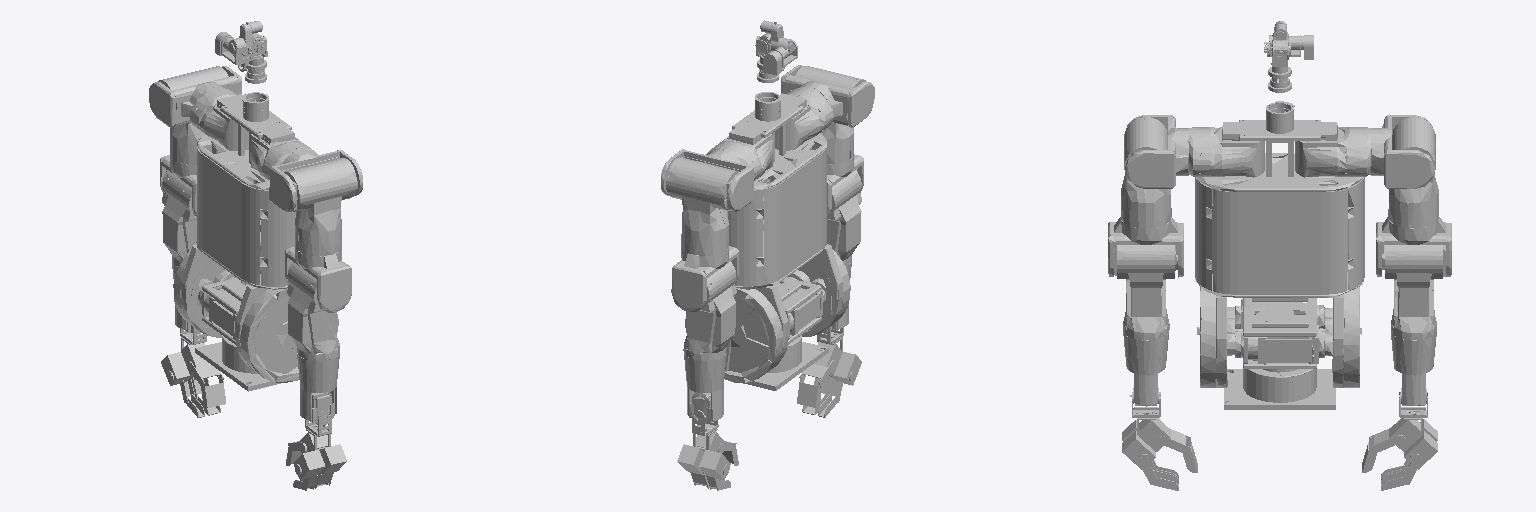
--- Facts derived from the render (not from the file) ---
Views: 3 orthographic renders of the robot side by side, from view 1: azimuth 30°, elevation 25°; view 2: azimuth 150°, elevation 25°; view 3: azimuth 270°, elevation 25°.
Robot: mybot — 63 links, 62 joints (34 revolute, 3 continuous, 6 prismatic, 19 fixed); root link base_footprint; default pose: all joints at 0.
Visible links, largest first — view 1: waist_1, right_shoulder_2, right_elbow_0, left_elbow_0, right_shoulder_3, waist_0, left_shoulder_1, right_shoulder_1, left_shoulder_0, left_shoulder_2, right_wrist_0, base_0 (+8 smaller); view 2: waist_1, left_shoulder_2, left_elbow_0, right_elbow_0, left_shoulder_3, waist_0, right_shoulder_1, left_shoulder_1, right_shoulder_0, right_shoulder_2, left_wrist_0, base_0 (+8 smaller); view 3: waist_1, waist_0, right_elbow_0, left_elbow_0, base_0, right_shoulder_2, left_shoulder_2, left_shoulder_0, right_shoulder_0, left_shoulder_1, right_shoulder_1, left_wrist_0 (+8 smaller).
Link boxes in pixels (<box>): waist_1: <box>173,94,338,382</box>; right_shoulder_2: <box>284,158,357,256</box>; right_elbow_0: <box>287,262,339,360</box>; left_elbow_0: <box>162,170,196,266</box>; right_shoulder_3: <box>285,247,351,312</box>; waist_0: <box>197,270,248,345</box>; left_shoulder_1: <box>149,66,241,127</box>; right_shoulder_1: <box>269,150,362,211</box>; left_shoulder_0: <box>190,87,248,150</box>; left_shoulder_2: <box>158,66,228,164</box>; right_wrist_0: <box>297,353,339,421</box>; base_0: <box>195,335,280,391</box>; waist_1: <box>685,93,850,382</box>; left_shoulder_2: <box>666,157,738,255</box>; left_elbow_0: <box>683,261,736,360</box>; right_elbow_0: <box>827,169,861,265</box>; left_shoulder_3: <box>671,246,738,311</box>; waist_0: <box>777,270,826,344</box>; right_shoulder_1: <box>781,65,874,127</box>; left_shoulder_1: <box>661,149,753,211</box>; right_shoulder_0: <box>775,86,833,150</box>; right_shoulder_2: <box>795,66,865,163</box>; left_wrist_0: <box>684,353,726,421</box>; base_0: <box>743,335,828,390</box>; waist_1: <box>1195,122,1364,387</box>; waist_0: <box>1197,298,1361,372</box>; right_elbow_0: <box>1114,245,1177,340</box>; left_elbow_0: <box>1382,245,1445,340</box>; base_0: <box>1224,369,1335,409</box>; right_shoulder_2: <box>1121,117,1171,228</box>; left_shoulder_2: <box>1388,117,1438,228</box>; left_shoulder_0: <box>1295,127,1371,177</box>; right_shoulder_0: <box>1188,127,1264,176</box>; left_shoulder_1: <box>1371,115,1434,188</box>; right_shoulder_1: <box>1125,115,1188,188</box>; left_wrist_0: <box>1391,332,1436,405</box>.
Bounding box of the posed robot: 0.2004 × 0.608 × 0.8992 m (x, y, z).
36 mesh visuals loaded from 40 distinct referenced files (36 Collada DAE); not drawn: 6 (reference not matched to a file when rendering).

robot.urdf — mybot:
<?xml version="1.0" ?>
<!-- =================================================================================== -->
<!-- |    This document was autogenerated by xacro from mybot.urdf.xacro               | -->
<!-- |    EDITING THIS FILE BY HAND IS NOT RECOMMENDED                                 | -->
<!-- =================================================================================== -->
<robot name="mybot" xmlns:xacro="http://www.ros.org/wiki/xacro">
  <!-- BASE -->
  <link name="base_footprint"/>
  <joint name="base_footprint_joint" type="fixed">
    <parent link="base_footprint"/>
    <child link="base_mobile"/>
    <origin rpy="0 0 0" xyz="0 0 0"/>
  </joint>
  <link name="base_mobile">
    <visual>
      <geometry>
        <mesh filename="package://mybot_description/dae/base_mobile.dae"/>
      </geometry>
      <material name="gray">
        <color rgba="0.8 0.8 0.8 1"/>
      </material>
    </visual>
    <collision>
      <geometry>
        <mesh filename="package://mybot_description/dae/base_mobile.dae"/>
      </geometry>
    </collision>
  </link>
  <joint name="base_mobile_joint" type="fixed">
    <parent link="base_mobile"/>
    <child link="base_wheel"/>
    <origin rpy="0 0 0" xyz="0 0 0.103"/>
  </joint>
  <link name="base_wheel"/>
  <joint name="base_joint" type="fixed">
    <parent link="base_mobile"/>
    <child link="base_0"/>
    <origin rpy="0 0 0" xyz="0 0 0.497"/>
  </joint>
  <link name="base_0">
    <visual>
      <geometry>
        <mesh filename="package://mybot_description/dae/base_0.dae"/>
      </geometry>
      <material name="gray">
        <color rgba="0.8 0.8 0.8 1"/>
      </material>
    </visual>
    <collision>
      <geometry>
        <mesh filename="package://mybot_description/dae/base_0.dae"/>
      </geometry>
    </collision>
  </link>
  <joint name="hokuyo_joint" type="fixed">
    <parent link="base_mobile"/>
    <child link="hokuyo_link"/>
    <origin rpy="0 0 0" xyz="0.17062 0 0.239"/>
  </joint>
  <link name="hokuyo_link"/>
  <!-- MOBILE PLATFORM -->
  <joint name="wheel_temp_joint_0" type="fixed">
    <parent link="base_wheel"/>
    <child link="wheel_temp_0"/>
    <origin rpy="0 0 1.0471975512" xyz="0 0 0"/>
  </joint>
  <link name="wheel_temp_0"/>
  <joint name="wheel_temp_joint_1" type="fixed">
    <parent link="base_wheel"/>
    <child link="wheel_temp_1"/>
    <origin rpy="0 0 -1.0471975512" xyz="0 0 0"/>
  </joint>
  <link name="wheel_temp_1"/>
  <joint name="wheel_temp_joint_2" type="fixed">
    <parent link="base_wheel"/>
    <child link="wheel_temp_2"/>
    <origin rpy="0 0 -3.14159265359" xyz="0 0 0"/>
  </joint>
  <link name="wheel_temp_2"/>
  <joint name="wheel_joint_0" type="continuous">
    <parent link="wheel_temp_0"/>
    <child link="wheel_0"/>
    <origin rpy="0 0 0" xyz="0.2752 0 0"/>
    <limit effort="7.0" velocity="1.0471975512"/>
    <safety_controller k_velocity="0.94247779608"/>
    <dynamics damping="1.0" friction="0.0"/>
  </joint>
  <link name="wheel_0">
    <visual>
      <geometry>
        <mesh filename="package://mybot_description/dae/wheel.dae"/>
      </geometry>
      <material name="gray">
        <color rgba="0.8 0.8 0.8 1"/>
      </material>
    </visual>
    <collision>
      <geometry>
        <mesh filename="package://mybot_description/dae/wheel.dae"/>
      </geometry>
    </collision>
  </link>
  <joint name="wheel_joint_1" type="continuous">
    <parent link="wheel_temp_1"/>
    <child link="wheel_1"/>
    <origin rpy="0 0 0" xyz="0.2752 0 0"/>
    <limit effort="7.0" velocity="1.0471975512"/>
    <safety_controller k_velocity="0.94247779608"/>
    <dynamics damping="1.0" friction="0.0"/>
  </joint>
  <link name="wheel_1">
    <visual>
      <geometry>
        <mesh filename="package://mybot_description/dae/wheel.dae"/>
      </geometry>
      <material name="gray">
        <color rgba="0.8 0.8 0.8 1"/>
      </material>
    </visual>
    <collision>
      <geometry>
        <mesh filename="package://mybot_description/dae/wheel.dae"/>
      </geometry>
    </collision>
  </link>
  <joint name="wheel_joint_2" type="continuous">
    <parent link="wheel_temp_2"/>
    <child link="wheel_2"/>
    <origin rpy="0 0 0" xyz="0.2752 0 0"/>
    <limit effort="7.0" velocity="1.0471975512"/>
    <safety_controller k_velocity="0.94247779608"/>
    <dynamics damping="1.0" friction="0.0"/>
  </joint>
  <link name="wheel_2">
    <visual>
      <geometry>
        <mesh filename="package://mybot_description/dae/wheel.dae"/>
      </geometry>
      <material name="gray">
        <color rgba="0.8 0.8 0.8 1"/>
      </material>
    </visual>
    <collision>
      <geometry>
        <mesh filename="package://mybot_description/dae/wheel.dae"/>
      </geometry>
    </collision>
  </link>
  <!-- WAIST -->
  <joint name="waist_joint_0" type="revolute">
    <parent link="base_0"/>
    <child link="waist_0"/>
    <axis xyz="0 0 1"/>
    <origin rpy="0 0 0" xyz="0 0 0"/>
    <limit effort="30.0" lower="-0.785398163397" upper="0.785398163397" velocity="0.418879020479"/>
    <dynamics damping="10.0"/>
  </joint>
  <link name="waist_0">
    <visual>
      <geometry>
        <mesh filename="package://mybot_description/dae/waist_0.dae"/>
      </geometry>
      <material name="gray">
        <color rgba="0.8 0.8 0.8 1"/>
      </material>
    </visual>
    <collision>
      <geometry>
        <mesh filename="package://mybot_description/dae/waist_0.dae"/>
      </geometry>
    </collision>
  </link>
  <joint name="waist_joint_1" type="revolute">
    <parent link="waist_0"/>
    <child link="waist_1"/>
    <axis xyz="0 -1 0"/>
    <origin rpy="0 0 0" xyz="0 0 0.099"/>
    <limit effort="30.0" lower="-0.523598775598" upper="0.523598775598" velocity="0.418879020479"/>
    <dynamics damping="10.0"/>
  </joint>
  <link name="waist_1">
    <visual>
      <geometry>
        <mesh filename="package://mybot_description/dae/waist_1.dae"/>
      </geometry>
      <material name="gray">
        <color rgba="0.8 0.8 0.8 1"/>
      </material>
    </visual>
    <collision>
      <geometry>
        <mesh filename="package://mybot_description/dae/waist_1.dae"/>
      </geometry>
    </collision>
  </link>
  <!-- HEAD -->
  <joint name="head_mount_joint" type="fixed">
    <parent link="waist_1"/>
    <child link="head_mount"/>
    <origin rpy="0 0 0" xyz="0 0 0.398"/>
  </joint>
  <link name="head_mount">
    <visual>
      <geometry>
        <mesh filename="package://mybot_description/dae/head_mount.dae"/>
      </geometry>
      <material name="gray">
        <color rgba="0.8 0.8 0.8 1"/>
      </material>
    </visual>
    <collision>
      <geometry>
        <mesh filename="package://mybot_description/dae/head_mount.dae"/>
      </geometry>
    </collision>
  </link>
  <joint name="head_joint_0" type="revolute">
    <parent link="head_mount"/>
    <child link="head_0"/>
    <axis xyz="0 0 1"/>
    <origin rpy="0 0 0" xyz="0 0 0"/>
    <limit effort="30.0" lower="-1.3962634016" upper="1.3962634016" velocity="0.418879020479"/>
    <dynamics damping="10.0"/>
  </joint>
  <link name="head_0">
    <visual>
      <geometry>
        <mesh filename="package://mybot_description/dae/head_0.dae"/>
      </geometry>
      <material name="gray">
        <color rgba="0.8 0.8 0.8 1"/>
      </material>
    </visual>
    <collision>
      <geometry>
        <mesh filename="package://mybot_description/dae/head_0.dae"/>
      </geometry>
    </collision>
  </link>
  <joint name="head_joint_1" type="revolute">
    <parent link="head_0"/>
    <child link="head_1"/>
    <axis xyz="0 1 0"/>
    <origin rpy="0 0 0" xyz="0 0 0.075"/>
    <limit effort="30.0" lower="-0.34" upper="1.04" velocity="0.418879020479"/>
    <dynamics damping="10.0"/>
  </joint>
  <link name="head_1">
    <visual>
      <geometry>
        <mesh filename="package://mybot_description/dae/head_1.dae"/>
      </geometry>
      <material name="gray">
        <color rgba="0.8 0.8 0.8 1"/>
      </material>
    </visual>
    <collision>
      <geometry>
        <mesh filename="package://mybot_description/dae/head_1.dae"/>
      </geometry>
    </collision>
  </link>
  <joint name="head_joint_2" type="revolute">
    <parent link="head_1"/>
    <child link="head_2"/>
    <axis xyz="0 -1 0"/>
    <origin rpy="0 0 0" xyz="0 0 0.080"/>
    <limit effort="30.0" lower="-0.13" upper="0.13" velocity="0.418879020479"/>
    <dynamics damping="10.0"/>
  </joint>
  <link name="head_2">
    <visual>
      <geometry>
        <mesh filename="package://mybot_description/dae/head_2.dae"/>
      </geometry>
      <material name="gray">
        <color rgba="0.8 0.8 0.8 1"/>
      </material>
    </visual>
    <collision>
      <geometry>
        <mesh filename="package://mybot_description/dae/head_2.dae"/>
      </geometry>
    </collision>
  </link>
  <joint name="head_joint_3" type="revolute">
    <parent link="head_2"/>
    <child link="head_3"/>
    <axis xyz="-1 0 0"/>
    <origin rpy="0 0 0" xyz="0 0.0015 0"/>
    <limit effort="30.0" lower="-0.08" upper="0.08" velocity="0.418879020479"/>
    <dynamics damping="10.0"/>
  </joint>
  <link name="head_3">
    <visual>
      <geometry>
        <mesh filename="package://mybot_description/dae/head_3.dae"/>
      </geometry>
      <material name="gray">
        <color rgba="0.8 0.8 0.8 1"/>
      </material>
    </visual>
    <collision>
      <geometry>
        <mesh filename="package://mybot_description/dae/head_3.dae"/>
      </geometry>
    </collision>
  </link>
  <joint name="head_rgbd_sensor" type="fixed">
    <parent link="head_3"/>
    <child link="xtion_link"/>
    <origin rpy="0.024106 0.183337 0.020246" xyz="0.045755 -0.038180 0.057544"/>
  </joint>
  <link name="xtion_link"/>
  <joint name="xtion_depth_joint" type="fixed">
    <parent link="xtion_link"/>
    <child link="xtion_depth_frame"/>
    <origin rpy="0 0 0" xyz="0 0.049 0"/>
  </joint>
  <link name="xtion_depth_frame"/>
  <joint name="xtion_depth_optical_joint" type="fixed">
    <parent link="xtion_depth_frame"/>
    <child link="xtion_depth_optical_frame"/>
    <origin rpy="-1.57079632679 0 -1.57079632679" xyz="0 0 0"/>
  </joint>
  <link name="xtion_depth_optical_frame"/>
  <joint name="xtion_rgb_joint" type="fixed">
    <parent link="xtion_link"/>
    <child link="xtion_rgb_frame"/>
    <origin rpy="0 0 0" xyz="0 0.022 0"/>
  </joint>
  <link name="xtion_rgb_frame"/>
  <joint name="xtion_rgb_optical_joint" type="fixed">
    <parent link="xtion_rgb_frame"/>
    <child link="xtion_rgb_optical_frame"/>
    <origin rpy="-1.57079632679 0 -1.57079632679" xyz="0 0 0"/>
  </joint>
  <link name="xtion_rgb_optical_frame"/>
  <!-- RIGHT ARM -->
  <joint name="right_shoulder_joint_0" type="revolute">
    <parent link="waist_1"/>
    <child link="right_shoulder_0"/>
    <axis xyz="0 0 1"/>
    <origin rpy="0 0 0" xyz="0 -0.075 0.351"/>
    <limit effort="30.0" lower="-1.0471975512" upper="1.0471975512" velocity="0.418879020479"/>
    <dynamics damping="10.0"/>
  </joint>
  <link name="right_shoulder_0">
    <visual>
      <geometry>
        <mesh filename="package://mybot_description/dae/right_shoulder_0.dae"/>
      </geometry>
      <material name="gray">
        <color rgba="0.8 0.8 0.8 1"/>
      </material>
    </visual>
    <collision>
      <geometry>
        <mesh filename="package://mybot_description/dae/right_shoulder_0.dae"/>
      </geometry>
    </collision>
  </link>
  <joint name="right_shoulder_joint_1" type="revolute">
    <parent link="right_shoulder_0"/>
    <child link="right_shoulder_1"/>
    <axis xyz="0 -1 0"/>
    <origin rpy="0 0 0" xyz="0 0 0"/>
    <limit effort="30.0" lower="-1.57079632679" upper="2.09439510239" velocity="0.418879020479"/>
    <dynamics damping="10.0"/>
  </joint>
  <link name="right_shoulder_1">
    <visual>
      <geometry>
        <mesh filename="package://mybot_description/dae/right_shoulder_1.dae"/>
      </geometry>
      <material name="gray">
        <color rgba="0.8 0.8 0.8 1"/>
      </material>
    </visual>
    <collision>
      <geometry>
        <mesh filename="package://mybot_description/dae/right_shoulder_1.dae"/>
      </geometry>
    </collision>
  </link>
  <joint name="right_shoulder_joint_2" type="revolute">
    <parent link="right_shoulder_1"/>
    <child link="right_shoulder_2"/>
    <axis xyz="-1 0 0"/>
    <origin rpy="0 0 0" xyz="0 -0.162 0"/>
    <limit effort="30.0" lower="-0.0" upper="1.57079632679" velocity="0.418879020479"/>
    <dynamics damping="10.0"/>
  </joint>
  <link name="right_shoulder_2">
    <visual>
      <geometry>
        <mesh filename="package://mybot_description/dae/right_shoulder_2.dae"/>
      </geometry>
      <material name="gray">
        <color rgba="0.8 0.8 0.8 1"/>
      </material>
    </visual>
    <collision>
      <geometry>
        <mesh filename="package://mybot_description/dae/right_shoulder_2.dae"/>
      </geometry>
    </collision>
  </link>
  <joint name="right_shoulder_joint_3" type="revolute">
    <parent link="right_shoulder_2"/>
    <child link="right_shoulder_3"/>
    <axis xyz="0 0 -1"/>
    <origin rpy="0 0 0" xyz="0 0 0"/>
    <limit effort="30.0" lower="-1.57079632679" upper="0.523598775598" velocity="0.418879020479"/>
    <dynamics damping="10.0"/>
  </joint>
  <link name="right_shoulder_3">
    <visual>
      <geometry>
        <mesh filename="package://mybot_description/dae/right_shoulder_3.dae"/>
      </geometry>
      <material name="gray">
        <color rgba="0.8 0.8 0.8 1"/>
      </material>
    </visual>
    <collision>
      <geometry>
        <mesh filename="package://mybot_description/dae/right_shoulder_3.dae"/>
      </geometry>
    </collision>
  </link>
  <joint name="right_elbow_joint_0" type="revolute">
    <parent link="right_shoulder_3"/>
    <child link="right_elbow_0"/>
    <axis xyz="0 -1 0"/>
    <origin rpy="0 0 0" xyz="0 0 -0.204"/>
    <limit effort="30.0" lower="-0.0" upper="1.57079632679" velocity="0.418879020479"/>
    <dynamics damping="10.0"/>
  </joint>
  <link name="right_elbow_0">
    <visual>
      <geometry>
        <mesh filename="package://mybot_description/dae/right_elbow_0.dae"/>
      </geometry>
      <material name="gray">
        <color rgba="0.8 0.8 0.8 1"/>
      </material>
    </visual>
    <collision>
      <geometry>
        <mesh filename="package://mybot_description/dae/right_elbow_0.dae"/>
      </geometry>
    </collision>
  </link>
  <joint name="right_wrist_joint_0" type="revolute">
    <parent link="right_elbow_0"/>
    <child link="right_wrist_0"/>
    <axis xyz="0 0 -1"/>
    <origin rpy="0 0 0" xyz="0 0 0"/>
    <limit effort="30.0" lower="-2.09439510239" upper="2.09439510239" velocity="0.418879020479"/>
    <dynamics damping="10.0"/>
  </joint>
  <link name="right_wrist_0">
    <visual>
      <geometry>
        <mesh filename="package://mybot_description/dae/right_wrist_0.dae"/>
      </geometry>
      <material name="gray">
        <color rgba="0.8 0.8 0.8 1"/>
      </material>
    </visual>
    <collision>
      <geometry>
        <mesh filename="package://mybot_description/dae/right_wrist_0.dae"/>
      </geometry>
    </collision>
  </link>
  <joint name="right_wrist_joint_1" type="revolute">
    <parent link="right_wrist_0"/>
    <child link="right_wrist_1"/>
    <axis xyz="1 0 0"/>
    <origin rpy="0 0 0" xyz="0 0 -0.2735"/>
    <limit effort="30.0" lower="-1.0471975512" upper="1.0471975512" velocity="0.418879020479"/>
    <dynamics damping="10.0"/>
  </joint>
  <link name="right_wrist_1">
    <visual>
      <geometry>
        <mesh filename="package://mybot_description/dae/right_wrist_1.dae"/>
      </geometry>
      <material name="gray">
        <color rgba="0.8 0.8 0.8 1"/>
      </material>
    </visual>
    <collision>
      <geometry>
        <mesh filename="package://mybot_description/dae/right_wrist_1.dae"/>
      </geometry>
    </collision>
  </link>
  <joint name="right_wrist_joint_2" type="revolute">
    <parent link="right_wrist_1"/>
    <child link="right_wrist_2"/>
    <axis xyz="0 -1 0"/>
    <origin rpy="0 0 0" xyz="0 0 0"/>
    <limit effort="30.0" lower="-0.523598775598" upper="0.523598775598" velocity="0.418879020479"/>
    <dynamics damping="10.0"/>
  </joint>
  <link name="right_wrist_2">
    <visual>
      <geometry>
        <mesh filename="package://mybot_description/dae/right_wrist_2.dae"/>
      </geometry>
      <material name="gray">
        <color rgba="0.8 0.8 0.8 1"/>
      </material>
    </visual>
    <collision>
      <geometry>
        <mesh filename="package://mybot_description/dae/right_wrist_2.dae"/>
      </geometry>
    </collision>
  </link>
  <!-- LEFT ARM -->
  <joint name="left_shoulder_joint_0" type="revolute">
    <parent link="waist_1"/>
    <child link="left_shoulder_0"/>
    <axis xyz="0 0 1"/>
    <origin rpy="0 0 0" xyz="0 0.075 0.351"/>
    <limit effort="30.0" lower="-1.0471975512" upper="1.0471975512" velocity="0.418879020479"/>
    <dynamics damping="10.0"/>
  </joint>
  <link name="left_shoulder_0">
    <visual>
      <geometry>
        <mesh filename="package://mybot_description/dae/left_shoulder_0.dae"/>
      </geometry>
      <material name="gray">
        <color rgba="0.8 0.8 0.8 1"/>
      </material>
    </visual>
    <collision>
      <geometry>
        <mesh filename="package://mybot_description/dae/left_shoulder_0.dae"/>
      </geometry>
    </collision>
  </link>
  <joint name="left_shoulder_joint_1" type="revolute">
    <parent link="left_shoulder_0"/>
    <child link="left_shoulder_1"/>
    <axis xyz="0 1 0"/>
    <origin rpy="0 0 0" xyz="0 0 0"/>
    <limit effort="30.0" lower="-2.09439510239" upper="1.57079632679" velocity="0.418879020479"/>
    <dynamics damping="10.0"/>
  </joint>
  <link name="left_shoulder_1">
    <visual>
      <geometry>
        <mesh filename="package://mybot_description/dae/left_shoulder_1.dae"/>
      </geometry>
      <material name="gray">
        <color rgba="0.8 0.8 0.8 1"/>
      </material>
    </visual>
    <collision>
      <geometry>
        <mesh filename="package://mybot_description/dae/left_shoulder_1.dae"/>
      </geometry>
    </collision>
  </link>
  <joint name="left_shoulder_joint_2" type="revolute">
    <parent link="left_shoulder_1"/>
    <child link="left_shoulder_2"/>
    <axis xyz="-1 0 0"/>
    <origin rpy="0 0 0" xyz="0 0.162 0"/>
    <limit effort="30.0" lower="-1.57079632679" upper="0.0" velocity="0.418879020479"/>
    <dynamics damping="10.0"/>
  </joint>
  <link name="left_shoulder_2">
    <visual>
      <geometry>
        <mesh filename="package://mybot_description/dae/left_shoulder_2.dae"/>
      </geometry>
      <material name="gray">
        <color rgba="0.8 0.8 0.8 1"/>
      </material>
    </visual>
    <collision>
      <geometry>
        <mesh filename="package://mybot_description/dae/left_shoulder_2.dae"/>
      </geometry>
    </collision>
  </link>
  <joint name="left_shoulder_joint_3" type="revolute">
    <parent link="left_shoulder_2"/>
    <child link="left_shoulder_3"/>
    <axis xyz="0 0 -1"/>
    <origin rpy="0 0 0" xyz="0 0 0"/>
    <limit effort="30.0" lower="-0.523598775598" upper="1.57079632679" velocity="0.418879020479"/>
    <dynamics damping="10.0"/>
  </joint>
  <link name="left_shoulder_3">
    <visual>
      <geometry>
        <mesh filename="package://mybot_description/dae/left_shoulder_3.dae"/>
      </geometry>
      <material name="gray">
        <color rgba="0.8 0.8 0.8 1"/>
      </material>
    </visual>
    <collision>
      <geometry>
        <mesh filename="package://mybot_description/dae/left_shoulder_3.dae"/>
      </geometry>
    </collision>
  </link>
  <joint name="left_elbow_joint_0" type="revolute">
    <parent link="left_shoulder_3"/>
    <child link="left_elbow_0"/>
    <axis xyz="0 1 0"/>
    <origin rpy="0 0 0" xyz="0 0 -0.204"/>
    <limit effort="30.0" lower="-1.57079632679" upper="0.0" velocity="0.418879020479"/>
    <dynamics damping="10.0"/>
  </joint>
  <link name="left_elbow_0">
    <visual>
      <geometry>
        <mesh filename="package://mybot_description/dae/left_elbow_0.dae"/>
      </geometry>
      <material name="gray">
        <color rgba="0.8 0.8 0.8 1"/>
      </material>
    </visual>
    <collision>
      <geometry>
        <mesh filename="package://mybot_description/dae/left_elbow_0.dae"/>
      </geometry>
    </collision>
  </link>
  <joint name="left_wrist_joint_0" type="revolute">
    <parent link="left_elbow_0"/>
    <child link="left_wrist_0"/>
    <axis xyz="0 0 -1"/>
    <origin rpy="0 0 0" xyz="0 0 0"/>
    <limit effort="30.0" lower="-2.09439510239" upper="2.09439510239" velocity="0.418879020479"/>
    <dynamics damping="10.0"/>
  </joint>
  <link name="left_wrist_0">
    <visual>
      <geometry>
        <mesh filename="package://mybot_description/dae/left_wrist_0.dae"/>
      </geometry>
      <material name="gray">
        <color rgba="0.8 0.8 0.8 1"/>
      </material>
    </visual>
    <collision>
      <geometry>
        <mesh filename="package://mybot_description/dae/left_wrist_0.dae"/>
      </geometry>
    </collision>
  </link>
  <joint name="left_wrist_joint_1" type="revolute">
    <parent link="left_wrist_0"/>
    <child link="left_wrist_1"/>
    <axis xyz="1 0 0"/>
    <origin rpy="0 0 0" xyz="0 0 -0.2735"/>
    <limit effort="30.0" lower="-1.0471975512" upper="1.0471975512" velocity="0.418879020479"/>
    <dynamics damping="10.0"/>
  </joint>
  <link name="left_wrist_1">
    <visual>
      <geometry>
        <mesh filename="package://mybot_description/dae/left_wrist_1.dae"/>
      </geometry>
      <material name="gray">
        <color rgba="0.8 0.8 0.8 1"/>
      </material>
    </visual>
    <collision>
      <geometry>
        <mesh filename="package://mybot_description/dae/left_wrist_1.dae"/>
      </geometry>
    </collision>
  </link>
  <joint name="left_wrist_joint_2" type="revolute">
    <parent link="left_wrist_1"/>
    <child link="left_wrist_2"/>
    <axis xyz="0 -1 0"/>
    <origin rpy="0 0 0" xyz="0 0 0"/>
    <limit effort="30.0" lower="-0.523598775598" upper="0.523598775598" velocity="0.418879020479"/>
    <dynamics damping="10.0"/>
  </joint>
  <link name="left_wrist_2">
    <visual>
      <geometry>
        <mesh filename="package://mybot_description/dae/left_wrist_2.dae"/>
      </geometry>
      <material name="gray">
        <color rgba="0.8 0.8 0.8 1"/>
      </material>
    </visual>
    <collision>
      <geometry>
        <mesh filename="package://mybot_description/dae/left_wrist_2.dae"/>
      </geometry>
    </collision>
  </link>
  <!-- RIGHT GRIPPER -->
  <joint name="right_gripper_parm_joint_0" type="fixed">
    <parent link="right_wrist_2"/>
    <child link="right_gripper_parm_0"/>
    <origin rpy="0.785 0 0" xyz="0 0.06046 -0.14234"/>
  </joint>
  <link name="right_gripper_parm_0">
    <visual>
      <geometry>
        <mesh filename="package://mybot_description/dae/right_gripper_parm_0.dae"/>
      </geometry>
      <material name="gray">
        <color rgba="0.8 0.8 0.8 1"/>
      </material>
    </visual>
    <collision>
      <geometry>
        <mesh filename="package://mybot_description/dae/right_gripper_parm_0.dae"/>
      </geometry>
    </collision>
  </link>
  <joint name="right_gripper_parm_joint_1" type="fixed">
    <parent link="right_gripper_parm_0"/>
    <child link="right_gripper_parm_1"/>
    <origin rpy="-0.785 0 0" xyz="0 0 0"/>
  </joint>
  <link name="right_gripper_parm_1"/>
  <joint name="right_gripper_parm_joint_2" type="fixed">
    <parent link="right_gripper_parm_0"/>
    <child link="right_gripper_parm_2"/>
    <origin rpy="-2.09439510239 1.57079632679 0" xyz="0 0 0.035"/>
  </joint>
  <link name="right_gripper_parm_2"/>
  <joint name="right_gripper_thumb_joint_0" type="revolute">
    <parent link="right_gripper_parm_1"/>
    <child link="right_gripper_thumb_0"/>
    <axis xyz="-1 0 0"/>
    <origin xyz="0 -0.03652 0.06381"/>
    <limit effort="30.0" lower="-0.349065850399" upper="0.174532925199" velocity="0.418879020479"/>
    <dynamics damping="10.0"/>
  </joint>
  <link name="right_gripper_thumb_0">
    <visual>
      <geometry>
        <mesh filename="package://mybot_description/dae/right_gripper_thumb_0.dae"/>
      </geometry>
      <material name="gray">
        <color rgba="0.8 0.8 0.8 1"/>
      </material>
    </visual>
    <collision>
      <geometry>
        <mesh filename="package://mybot_description/dae/right_gripper_thumb_0.dae"/>
      </geometry>
    </collision>
  </link>
  <joint name="right_gripper_thumb_joint_1" type="revolute">
    <parent link="right_gripper_thumb_0"/>
    <child link="right_gripper_thumb_1"/>
    <axis xyz="-1 0 0"/>
    <origin rpy="0 0 0" xyz="0 0.04698 -0.01639"/>
    <mimic joint="right_gripper_thumb_joint_0" multiplier="2"/>
    <limit effort="30.0" lower="-0.698131700798" upper="0.349065850399" velocity="0.418879020479"/>
    <dynamics damping="10.0"/>
  </joint>
  <link name="right_gripper_thumb_1">
    <visual>
      <geometry>
        <mesh filename="package://mybot_description/dae/right_gripper_thumb_1.dae"/>
      </geometry>
      <material name="gray">
        <color rgba="0.8 0.8 0.8 1"/>
      </material>
    </visual>
    <collision>
      <geometry>
        <mesh filename="package://mybot_description/dae/right_gripper_thumb_1.dae"/>
      </geometry>
    </collision>
  </link>
  <joint name="right_gripper_forefinger_joint_0" type="revolute">
    <parent link="right_gripper_parm_1"/>
    <child link="right_gripper_forefinger_0"/>
    <axis xyz="1 0 0"/>
    <origin rpy="0 0 0" xyz="0 -0.06381 0.03652"/>
    <limit effort="30.0" lower="-0.349065850399" upper="0.174532925199" velocity="0.418879020479"/>
    <dynamics damping="10.0"/>
  </joint>
  <link name="right_gripper_forefinger_0">
    <visual>
      <geometry>
        <mesh filename="package://mybot_description/dae/right_gripper_forefinger_0.dae"/>
      </geometry>
      <material name="gray">
        <color rgba="0.8 0.8 0.8 1"/>
      </material>
    </visual>
    <collision>
      <geometry>
        <mesh filename="package://mybot_description/dae/right_gripper_forefinger_0.dae"/>
      </geometry>
    </collision>
  </link>
  <joint name="right_gripper_forefinger_joint_1" type="revolute">
    <parent link="right_gripper_forefinger_0"/>
    <child link="right_gripper_forefinger_1"/>
    <axis xyz="1 0 0"/>
    <origin rpy="0 0 0" xyz="0 0.01639 -0.04698"/>
    <mimic joint="right_gripper_forefinger_joint_0" multiplier="2"/>
    <limit effort="30.0" lower="-0.698131700798" upper="0.349065850399" velocity="0.418879020479"/>
    <dynamics damping="10.0"/>
  </joint>
  <link name="right_gripper_forefinger_1">
    <visual>
      <geometry>
        <mesh filename="package://mybot_description/dae/right_gripper_forefinger_1.dae"/>
      </geometry>
      <material name="gray">
        <color rgba="0.8 0.8 0.8 1"/>
      </material>
    </visual>
    <collision>
      <geometry>
        <mesh filename="package://mybot_description/dae/right_gripper_forefinger_1.dae"/>
      </geometry>
    </collision>
  </link>
  <joint name="right_gripper_littlefinger_joint_0" type="revolute">
    <parent link="right_gripper_parm_1"/>
    <child link="right_gripper_littlefinger_0"/>
    <axis xyz="-1 0 0"/>
    <origin rpy="0 0 0" xyz="0 -0.06381 0.03652"/>
    <limit effort="30.0" lower="-0.174532925199" upper="0.349065850399" velocity="0.418879020479"/>
    <dynamics damping="10.0"/>
  </joint>
  <link name="right_gripper_littlefinger_0">
    <visual>
      <geometry>
        <mesh filename="package://mybot_description/dae/right_gripper_littlefinger_0.dae"/>
      </geometry>
      <material name="gray">
        <color rgba="0.8 0.8 0.8 1"/>
      </material>
    </visual>
    <collision>
      <geometry>
        <mesh filename="package://mybot_description/dae/right_gripper_littlefinger_0.dae"/>
      </geometry>
    </collision>
  </link>
  <joint name="right_gripper_littlefinger_joint_1" type="revolute">
    <parent link="right_gripper_littlefinger_0"/>
    <child link="right_gripper_littlefinger_1"/>
    <axis xyz="-1 0 0"/>
    <origin rpy="0 0 0" xyz="0 0.01639 -0.04698"/>
    <mimic joint="right_gripper_littlefinger_joint_0" multiplier="2"/>
    <limit effort="30.0" lower="-0.349065850399" upper="0.698131700798" velocity="0.418879020479"/>
    <dynamics damping="10.0"/>
  </joint>
  <link name="right_gripper_littlefinger_1">
    <visual>
      <geometry>
        <mesh filename="package://mybot_description/dae/right_gripper_littlefinger_1.dae"/>
      </geometry>
      <material name="gray">
        <color rgba="0.8 0.8 0.8 1"/>
      </material>
    </visual>
    <collision>
      <geometry>
        <mesh filename="package://mybot_description/dae/right_gripper_littlefinger_1.dae"/>
      </geometry>
    </collision>
  </link>
  <!-- LEFT GRIPPER -->
  <joint name="left_gripper_parm_joint_0" type="fixed">
    <parent link="left_wrist_2"/>
    <child link="left_gripper_parm_0"/>
    <origin rpy="-0.785 0 0" xyz="0 -0.06046 -0.14234"/>
  </joint>
  <link name="left_gripper_parm_0">
    <visual>
      <geometry>
        <mesh filename="package://mybot_description/dae/left_gripper_parm_0.dae"/>
      </geometry>
      <material name="gray">
        <color rgba="0.8 0.8 0.8 1"/>
      </material>
    </visual>
    <collision>
      <geometry>
        <mesh filename="package://mybot_description/dae/left_gripper_parm_0.dae"/>
      </geometry>
    </collision>
  </link>
  <joint name="left_gripper_parm_joint_1" type="fixed">
    <parent link="left_gripper_parm_0"/>
    <child link="left_gripper_parm_1"/>
    <origin rpy="0.785 0 0" xyz="0 0 0"/>
  </joint>
  <link name="left_gripper_parm_1"/>
  <joint name="left_gripper_parm_joint_2" type="fixed">
    <parent link="left_gripper_parm_0"/>
    <child link="left_gripper_parm_2"/>
    <origin rpy="-2.09439510239 1.57079632679 0" xyz="0 0 0.035"/>
  </joint>
  <link name="left_gripper_parm_2"/>
  <joint name="left_gripper_thumb_joint_0" type="revolute">
    <parent link="left_gripper_parm_1"/>
    <child link="left_gripper_thumb_0"/>
    <axis xyz="-1 0 0"/>
    <origin xyz="0 0.03652 0.06381"/>
    <limit effort="30.0" lower="-0.174532925199" upper="0.349065850399" velocity="0.418879020479"/>
    <dynamics damping="10.0"/>
  </joint>
  <link name="left_gripper_thumb_0">
    <visual>
      <geometry>
        <mesh filename="package://mybot_description/dae/left_gripper_thumb_0.dae"/>
      </geometry>
      <material name="gray">
        <color rgba="0.8 0.8 0.8 1"/>
      </material>
    </visual>
    <collision>
      <geometry>
        <mesh filename="package://mybot_description/dae/left_gripper_thumb_0.dae"/>
      </geometry>
    </collision>
  </link>
  <joint name="left_gripper_thumb_joint_1" type="revolute">
    <parent link="left_gripper_thumb_0"/>
    <child link="left_gripper_thumb_1"/>
    <axis xyz="-1 0 0"/>
    <origin rpy="0 0 0" xyz="0 -0.04698 -0.01639"/>
    <mimic joint="left_gripper_thumb_joint_0" multiplier="2"/>
    <limit effort="30.0" lower="-0.349065850399" upper="0.698131700798" velocity="0.418879020479"/>
    <dynamics damping="10.0"/>
  </joint>
  <link name="left_gripper_thumb_1">
    <visual>
      <geometry>
        <mesh filename="package://mybot_description/dae/left_gripper_thumb_1.dae"/>
      </geometry>
      <material name="gray">
        <color rgba="0.8 0.8 0.8 1"/>
      </material>
    </visual>
    <collision>
      <geometry>
        <mesh filename="package://mybot_description/dae/left_gripper_thumb_1.dae"/>
      </geometry>
    </collision>
  </link>
  <joint name="left_gripper_forefinger_joint_0" type="revolute">
    <parent link="left_gripper_parm_1"/>
    <child link="left_gripper_forefinger_0"/>
    <axis xyz="1 0 0"/>
    <origin rpy="0 0 0" xyz="0 0.06381 0.03652"/>
    <limit effort="30.0" lower="-0.174532925199" upper="0.349065850399" velocity="0.418879020479"/>
    <dynamics damping="10.0"/>
  </joint>
  <link name="left_gripper_forefinger_0">
    <visual>
      <geometry>
        <mesh filename="package://mybot_description/dae/left_gripper_forefinger_0.dae"/>
      </geometry>
      <material name="gray">
        <color rgba="0.8 0.8 0.8 1"/>
      </material>
    </visual>
    <collision>
      <geometry>
        <mesh filename="package://mybot_description/dae/left_gripper_forefinger_0.dae"/>
      </geometry>
    </collision>
  </link>
  <joint name="left_gripper_forefinger_joint_1" type="revolute">
    <parent link="left_gripper_forefinger_0"/>
    <child link="left_gripper_forefinger_1"/>
    <axis xyz="1 0 0"/>
    <origin rpy="0 0 0" xyz="0 -0.01639 -0.04698"/>
    <mimic joint="left_gripper_forefinger_joint_0" multiplier="2"/>
    <limit effort="30.0" lower="-0.349065850399" upper="0.698131700798" velocity="0.418879020479"/>
    <dynamics damping="10.0"/>
  </joint>
  <link name="left_gripper_forefinger_1">
    <visual>
      <geometry>
        <mesh filename="package://mybot_description/dae/left_gripper_forefinger_1.dae"/>
      </geometry>
      <material name="gray">
        <color rgba="0.8 0.8 0.8 1"/>
      </material>
    </visual>
    <collision>
      <geometry>
        <mesh filename="package://mybot_description/dae/left_gripper_forefinger_1.dae"/>
      </geometry>
    </collision>
  </link>
  <joint name="left_gripper_littlefinger_joint_0" type="revolute">
    <parent link="left_gripper_parm_1"/>
    <child link="left_gripper_littlefinger_0"/>
    <axis xyz="-1 0 0"/>
    <origin rpy="0 0 0" xyz="0 0.06381 0.03652"/>
    <limit effort="30.0" lower="-0.349065850399" upper="0.174532925199" velocity="0.418879020479"/>
    <dynamics damping="10.0"/>
  </joint>
  <link name="left_gripper_littlefinger_0">
    <visual>
      <geometry>
        <mesh filename="package://mybot_description/dae/left_gripper_littlefinger_0.dae"/>
      </geometry>
      <material name="gray">
        <color rgba="0.8 0.8 0.8 1"/>
      </material>
    </visual>
    <collision>
      <geometry>
        <mesh filename="package://mybot_description/dae/left_gripper_littlefinger_0.dae"/>
      </geometry>
    </collision>
  </link>
  <joint name="left_gripper_littlefinger_joint_1" type="revolute">
    <parent link="left_gripper_littlefinger_0"/>
    <child link="left_gripper_littlefinger_1"/>
    <axis xyz="-1 0 0"/>
    <origin rpy="0 0 0" xyz="0 -0.01639 -0.04698"/>
    <mimic joint="left_gripper_littlefinger_joint_0" multiplier="2"/>
    <limit effort="30.0" lower="-0.698131700798" upper="0.349065850399" velocity="0.418879020479"/>
    <dynamics damping="10.0"/>
  </joint>
  <link name="left_gripper_littlefinger_1">
    <visual>
      <geometry>
        <mesh filename="package://mybot_description/dae/left_gripper_littlefinger_1.dae"/>
      </geometry>
      <material name="gray">
        <color rgba="0.8 0.8 0.8 1"/>
      </material>
    </visual>
    <collision>
      <geometry>
        <mesh filename="package://mybot_description/dae/left_gripper_littlefinger_1.dae"/>
      </geometry>
    </collision>
  </link>
  <!-- BOTTLE MOUTH -->
  <joint name="right_bottle_mouth_joint_x" type="prismatic">
    <parent link="right_gripper_parm_0"/>
    <child link="right_bottle_mouth_x"/>
    <axis xyz="1 0 0"/>
    <origin xyz="0 0 0"/>
    <limit effort="30.0" lower="-1.0" upper="1.0" velocity="4.18879020479"/>
    <dynamics damping="10.0"/>
  </joint>
  <link name="right_bottle_mouth_x"/>
  <joint name="right_bottle_mouth_joint_y" type="prismatic">
    <parent link="right_bottle_mouth_x"/>
    <child link="right_bottle_mouth_y"/>
    <axis xyz="0 1 0"/>
    <origin xyz="0 0 0"/>
    <limit effort="30.0" lower="-1.0" upper="1.0" velocity="4.18879020479"/>
    <dynamics damping="10.0"/>
  </joint>
  <link name="right_bottle_mouth_y"/>
  <joint name="right_bottle_mouth_joint_z" type="prismatic">
    <parent link="right_bottle_mouth_y"/>
    <child link="right_bottle_mouth_z"/>
    <axis xyz="0 0 1"/>
    <origin xyz="0 0 0"/>
    <limit effort="30.0" lower="-1.0" upper="1.0" velocity="4.18879020479"/>
    <dynamics damping="10.0"/>
  </joint>
  <link name="right_bottle_mouth_z"/>
  <joint name="left_bottle_mouth_joint_x" type="prismatic">
    <parent link="left_gripper_parm_0"/>
    <child link="left_bottle_mouth_x"/>
    <axis xyz="1 0 0"/>
    <origin xyz="0 0 0"/>
    <limit effort="30.0" lower="-1.0" upper="1.0" velocity="4.18879020479"/>
    <dynamics damping="10.0"/>
  </joint>
  <link name="left_bottle_mouth_x"/>
  <joint name="left_bottle_mouth_joint_y" type="prismatic">
    <parent link="left_bottle_mouth_x"/>
    <child link="left_bottle_mouth_y"/>
    <axis xyz="0 1 0"/>
    <origin xyz="0 0 0"/>
    <limit effort="30.0" lower="-1.0" upper="1.0" velocity="4.18879020479"/>
    <dynamics damping="10.0"/>
  </joint>
  <link name="left_bottle_mouth_y"/>
  <joint name="left_bottle_mouth_joint_z" type="prismatic">
    <parent link="left_bottle_mouth_y"/>
    <child link="left_bottle_mouth_z"/>
    <axis xyz="0 0 1"/>
    <origin xyz="0 0 0"/>
    <limit effort="30.0" lower="-1.0" upper="1.0" velocity="4.18879020479"/>
    <dynamics damping="10.0"/>
  </joint>
  <link name="left_bottle_mouth_z"/>
</robot>
